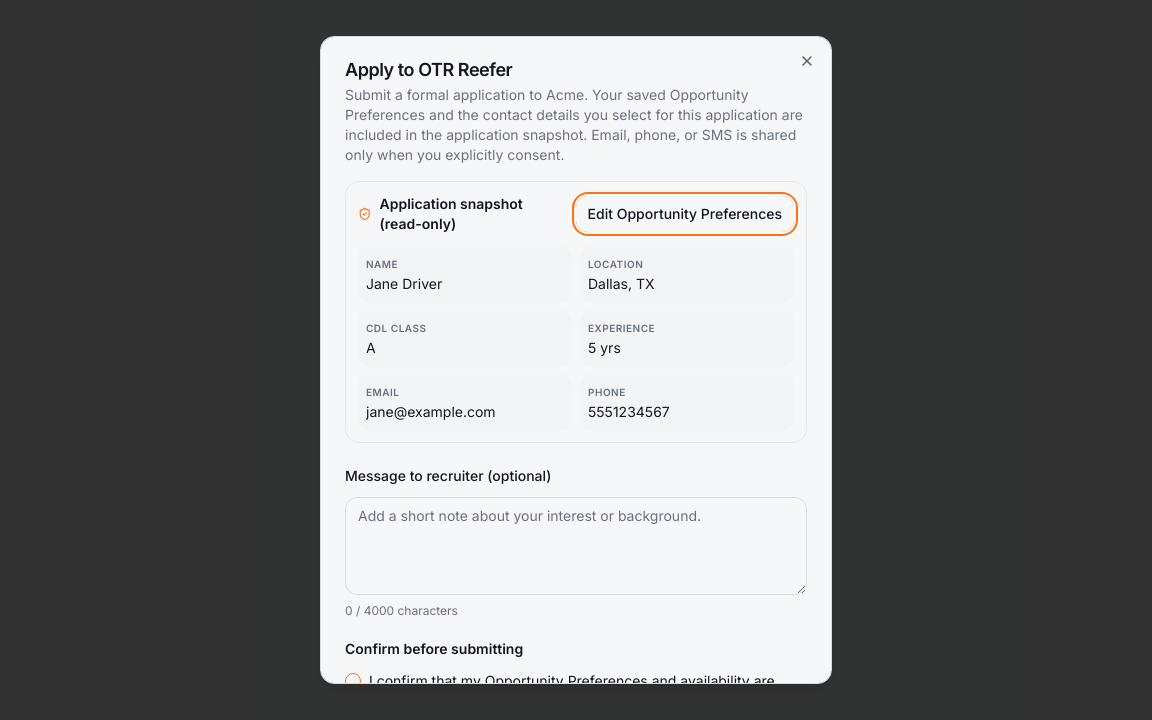
ApplyNowDialog gating › disables submit until all three attestations are checked
Click the checkbox named "Opportunity Preferences and availability" at (353, 681), box [345, 673, 361, 689]
(page scrolled)
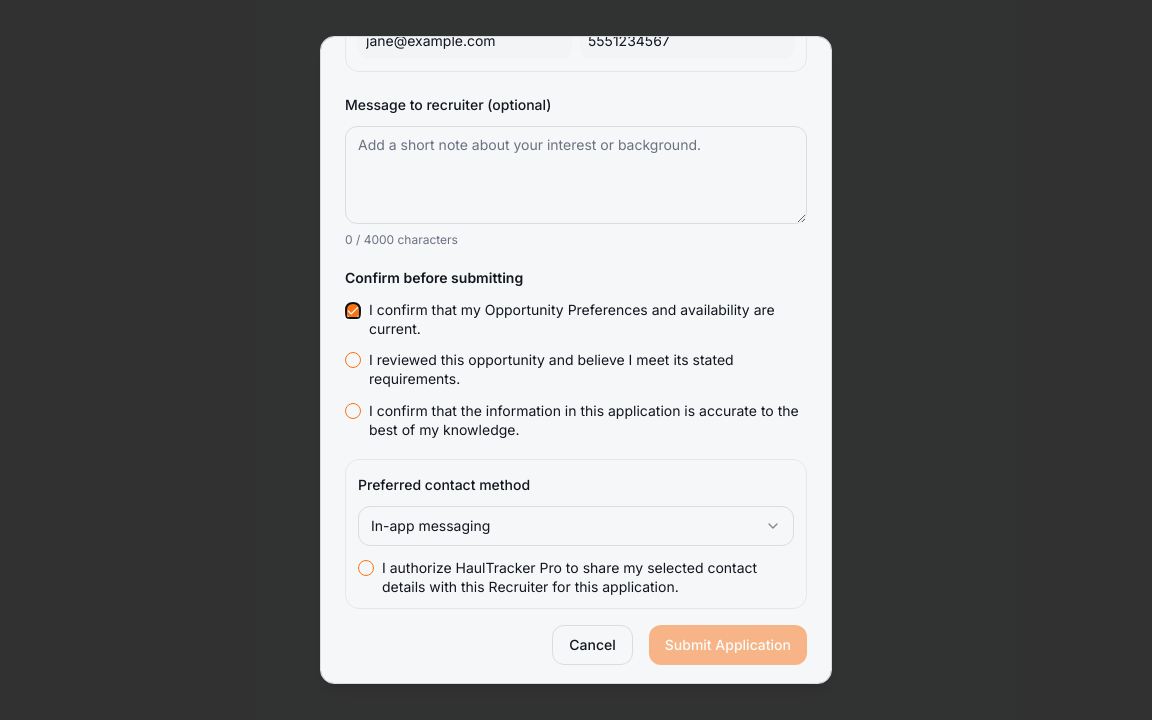
Click the 2nd checkbox named "meet its stated requirements" at (353, 360), box [345, 352, 361, 368]
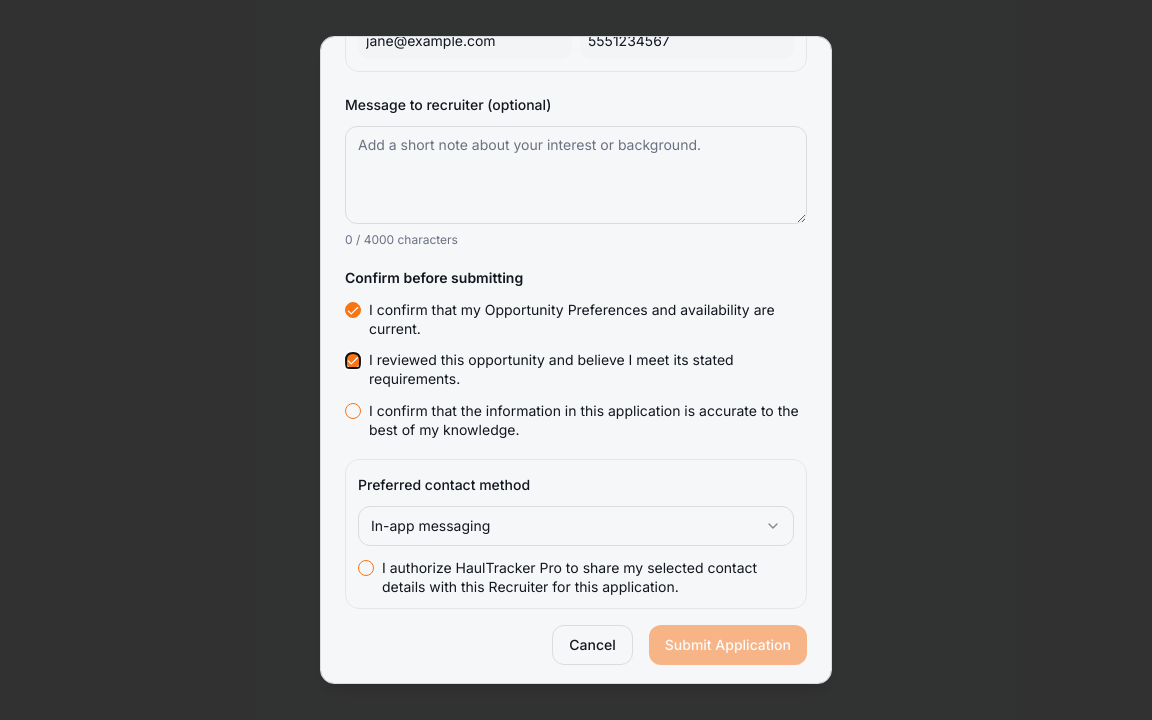
Check: the button "Submit Application" is disabled, box [649, 625, 807, 665]
Click the 3rd checkbox named "accurate to the best of my knowledge" at (353, 411), box [345, 403, 361, 419]
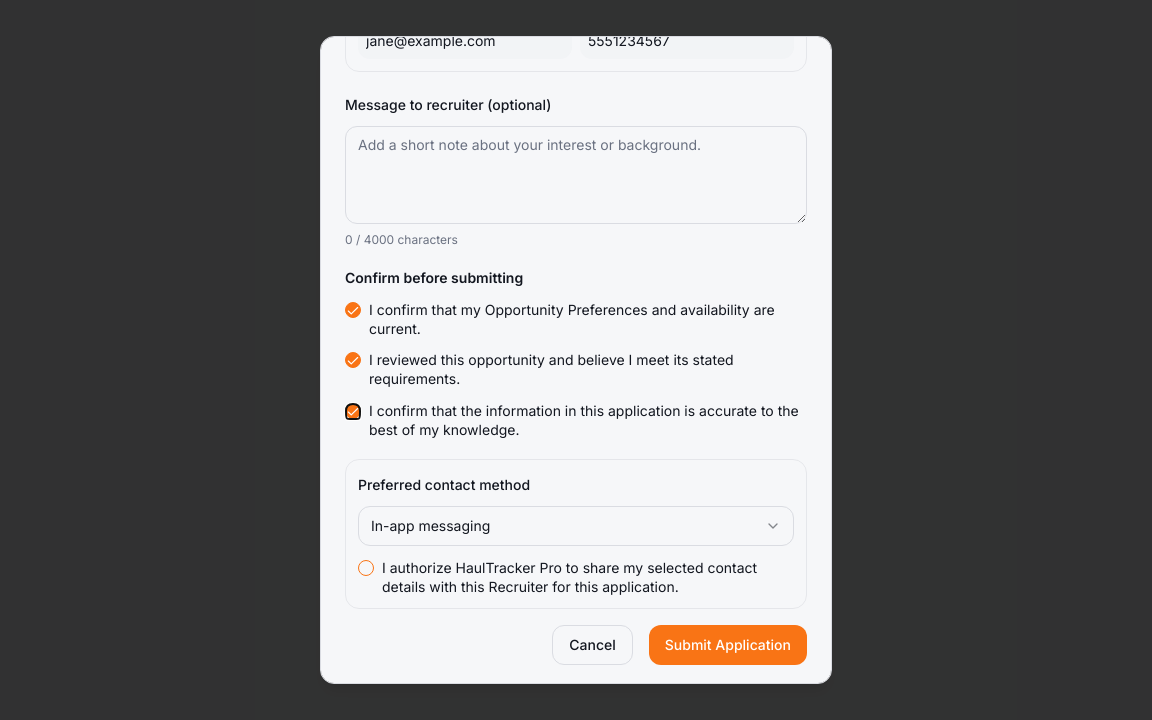
Check: the button "Submit Application" is enabled, box [649, 625, 807, 665]
